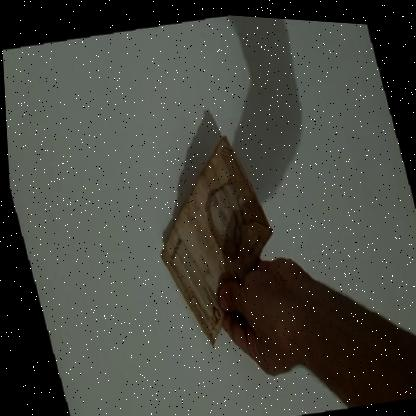five-front-vef: (133, 123, 294, 355)
